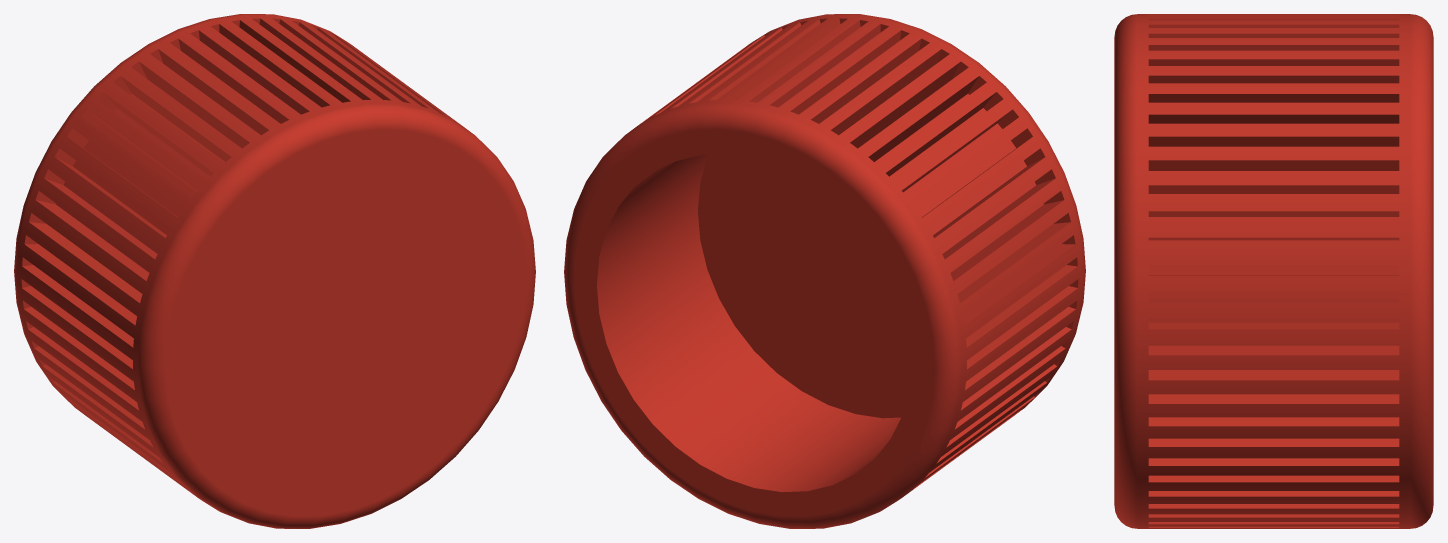
File: red-cap.obj
The picture shows the model from 3 angles, left to right: view 1: azimuth 30°, elevation 25°; view 2: azimuth 150°, elevation 25°; view 3: azimuth 270°, elevation 25°; orthographic projection. The views are drawn at different scales.
Visible parts, largest first — view 1: Body1; view 2: Body1; view 3: Body1.
Part boxes in pixels (bbox=[...]): Body1: bbox=[14, 14, 535, 528]; Body1: bbox=[564, 14, 1085, 528]; Body1: bbox=[1114, 14, 1433, 528].
Bounding box in the file's own units: 2.26 × 2.26 × 1.4.
